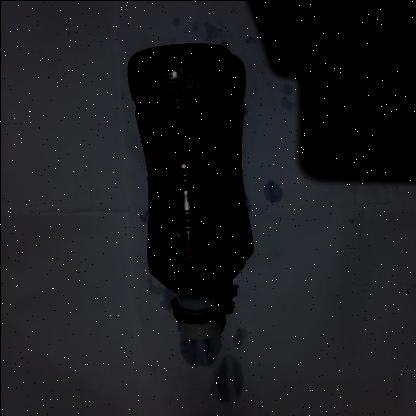Plastic Bottle: (126, 43, 246, 337)
